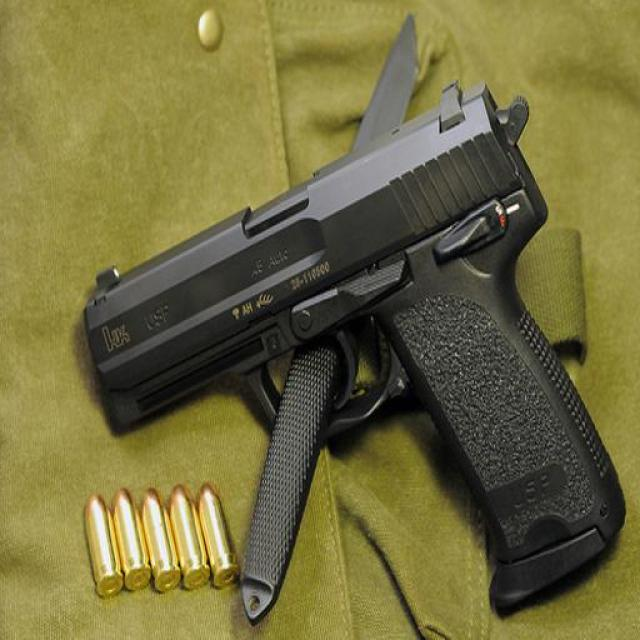pistol: (80, 76, 626, 618)
